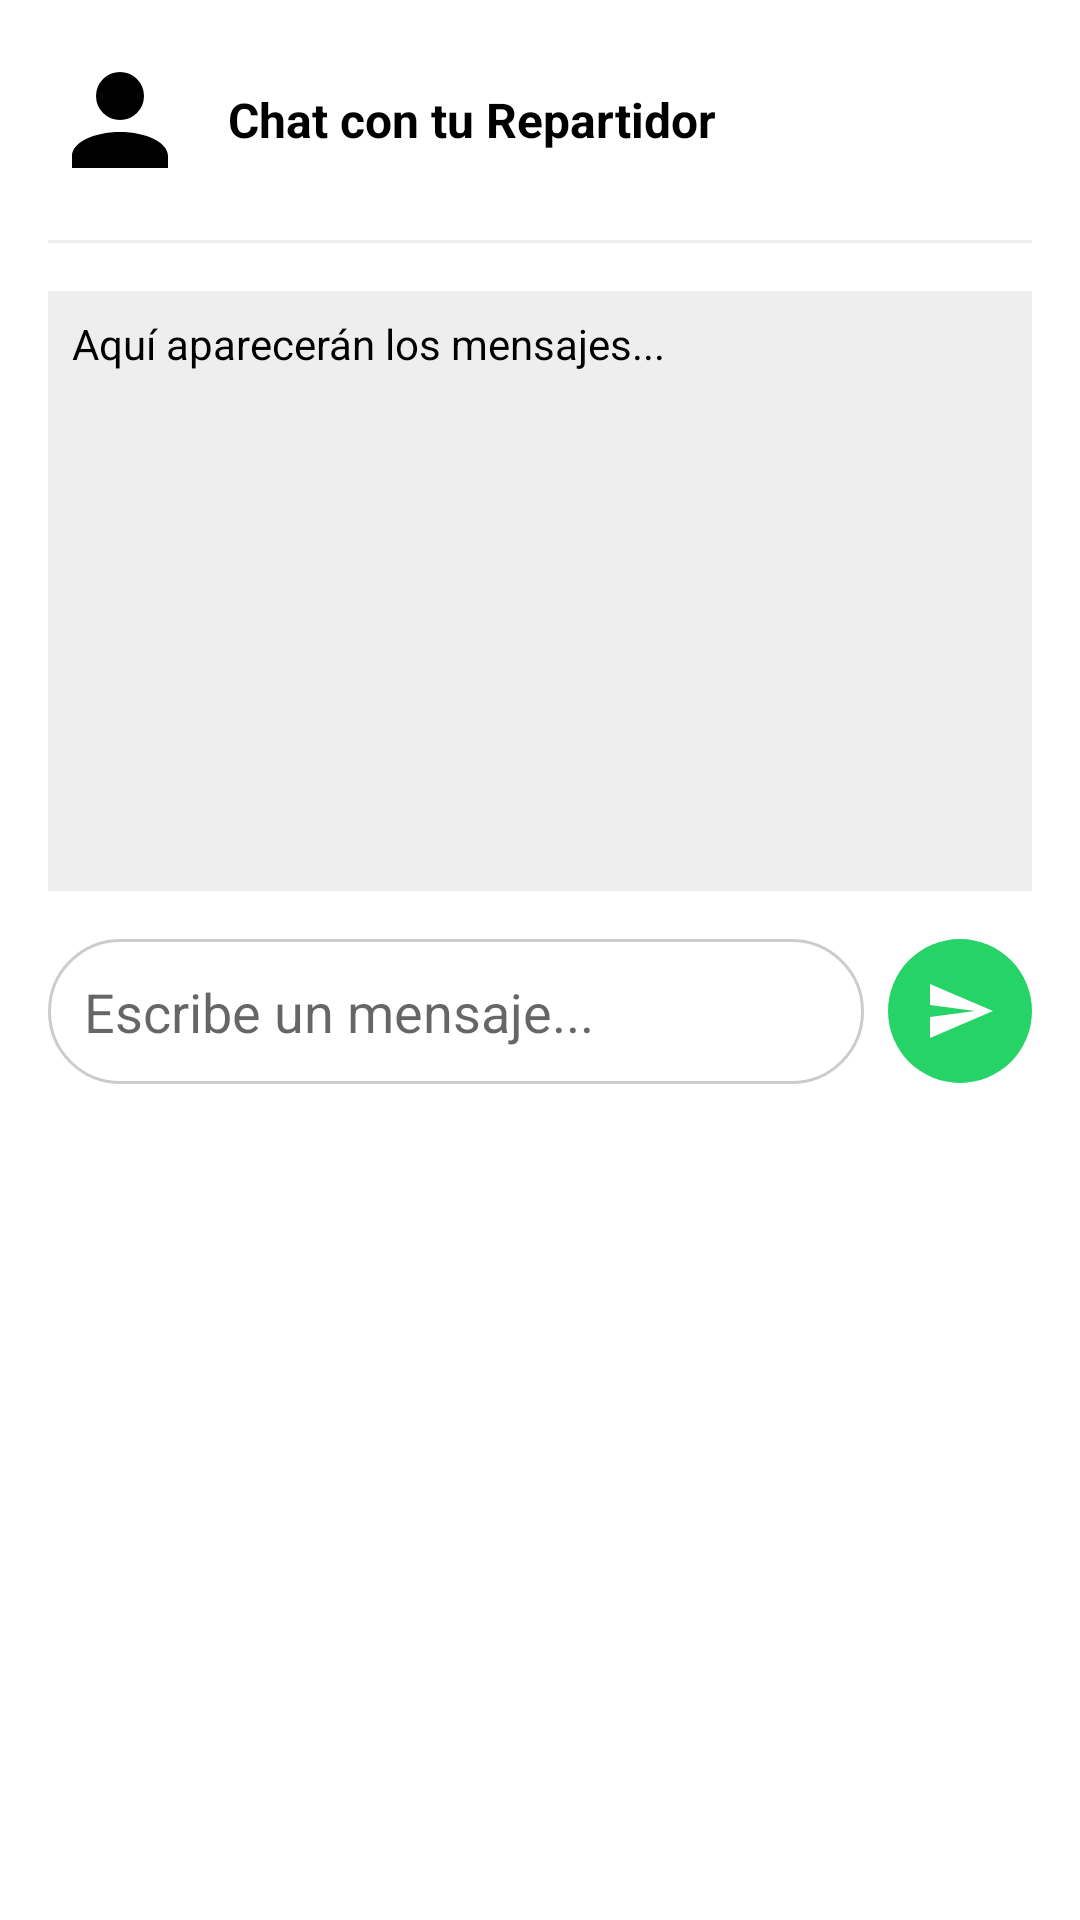

Icons on this 1080 x 1920 Android screen, each with the point to tap as point (x, y):
Enviar mensaje: point (960, 1011)
Imagen repartidor: point (120, 120)
